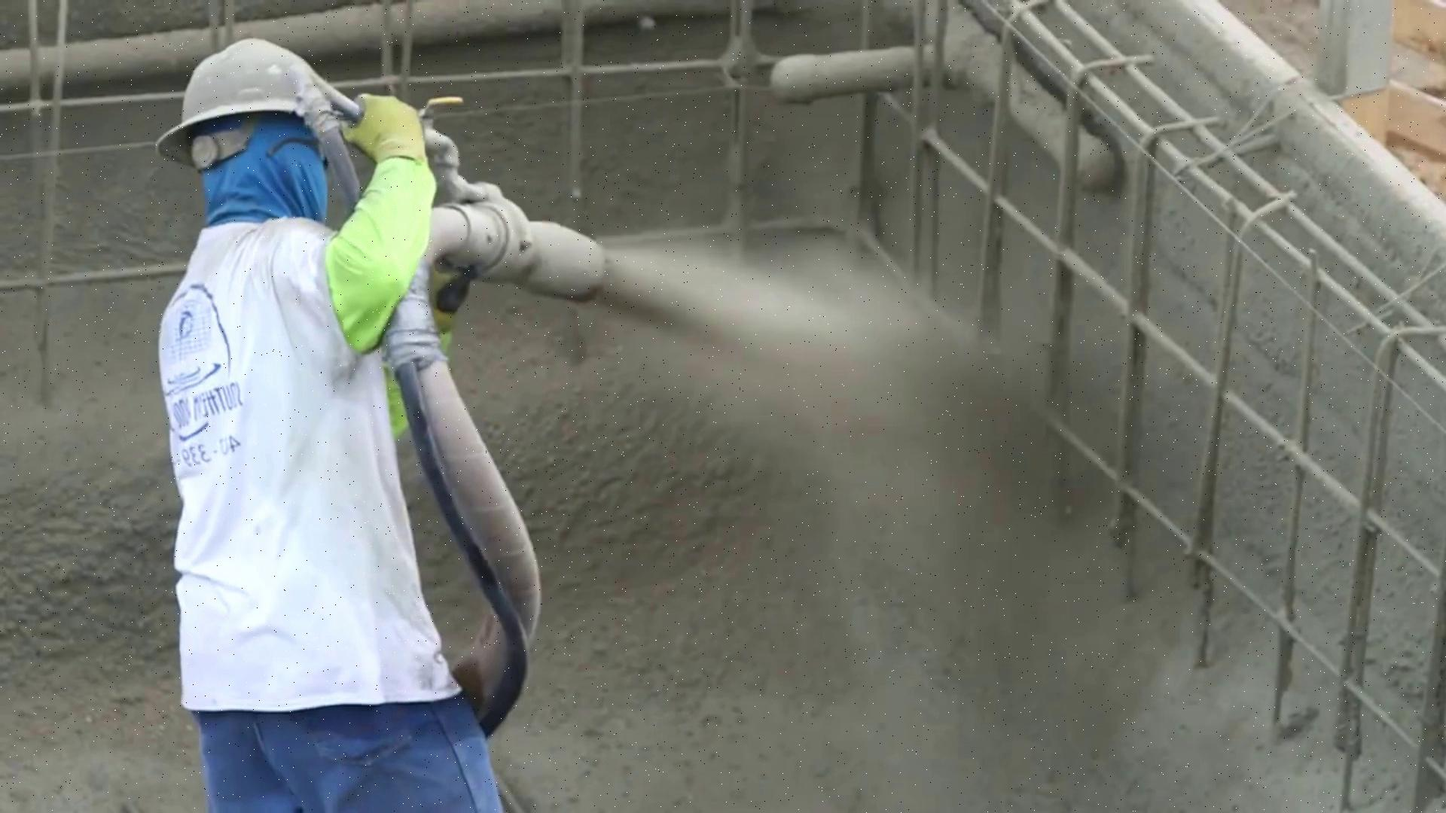Hard_hat: (151, 32, 329, 142)
